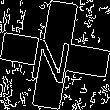N_N: (31, 27, 79, 83)
